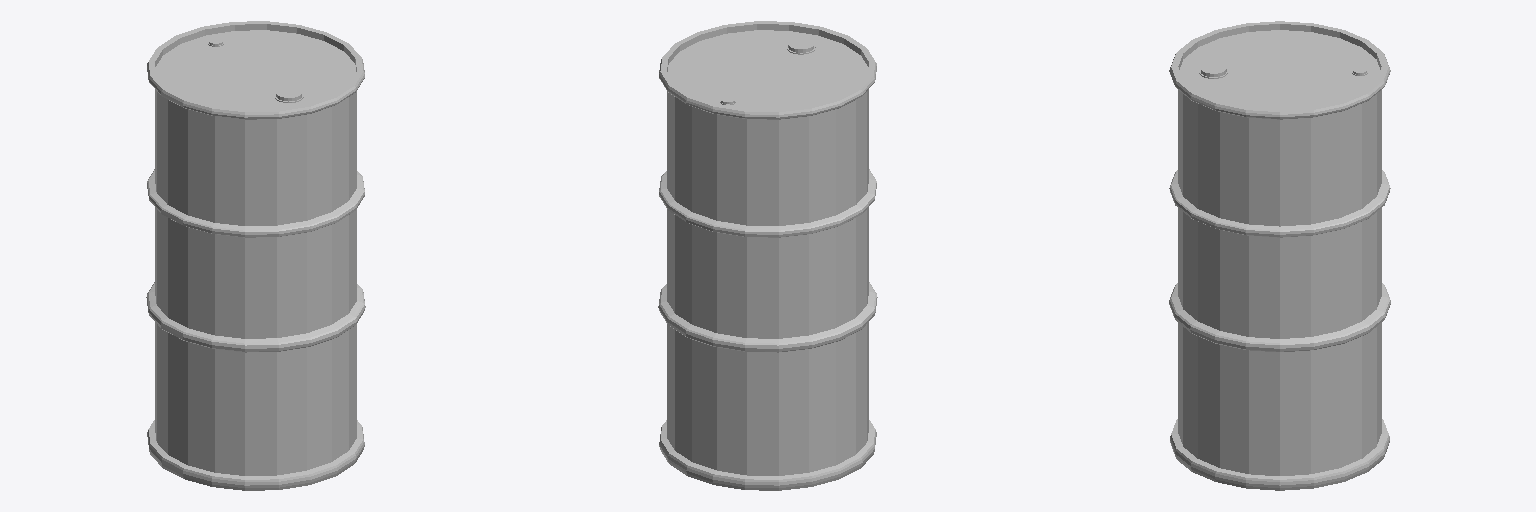
The model's file is Barrel_Closed.obj.
The picture shows the model from 3 angles: view 1: azimuth 30°, elevation 25°; view 2: azimuth 150°, elevation 25°; view 3: azimuth 270°, elevation 25°; orthographic projection.
Visible parts, largest first — view 1: OilBarrel_low; view 2: OilBarrel_low; view 3: OilBarrel_low.
Boxes of the visible parts, box(x1,y1,x2,y2) form: OilBarrel_low: box(146, 21, 365, 490); OilBarrel_low: box(658, 21, 877, 490); OilBarrel_low: box(1169, 21, 1390, 490).
Size of the model in its own units: 8.69 by 16.5 by 8.77.